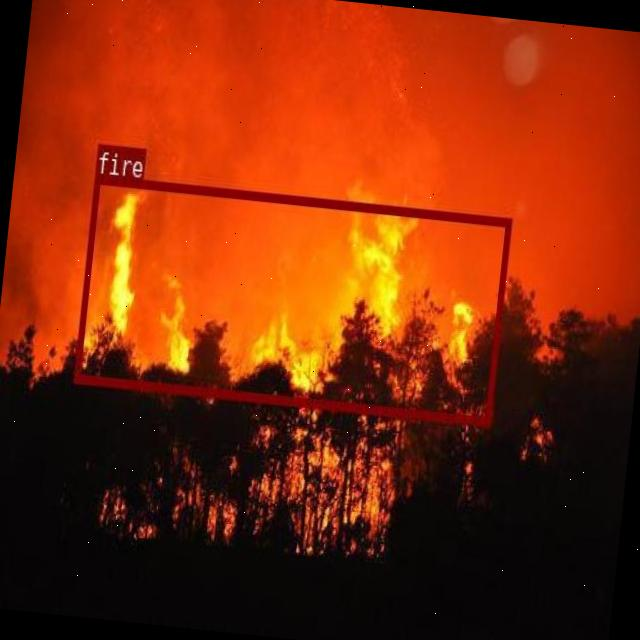fire: (72, 173, 510, 424)
